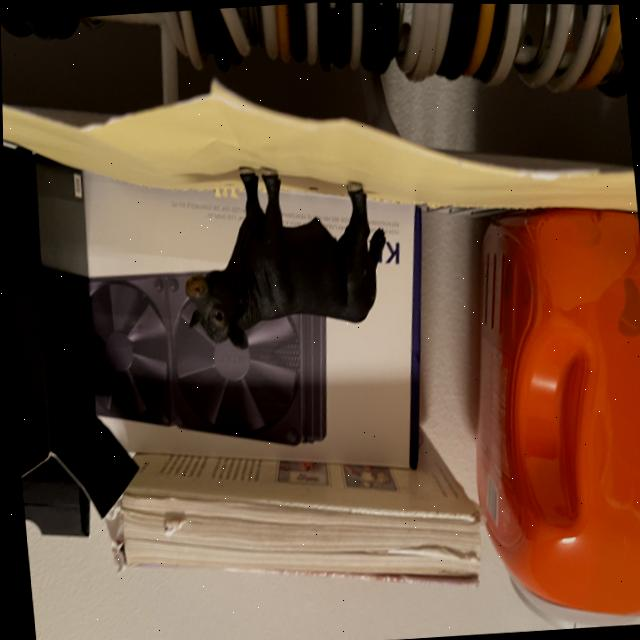cow: (176, 159, 392, 367)
